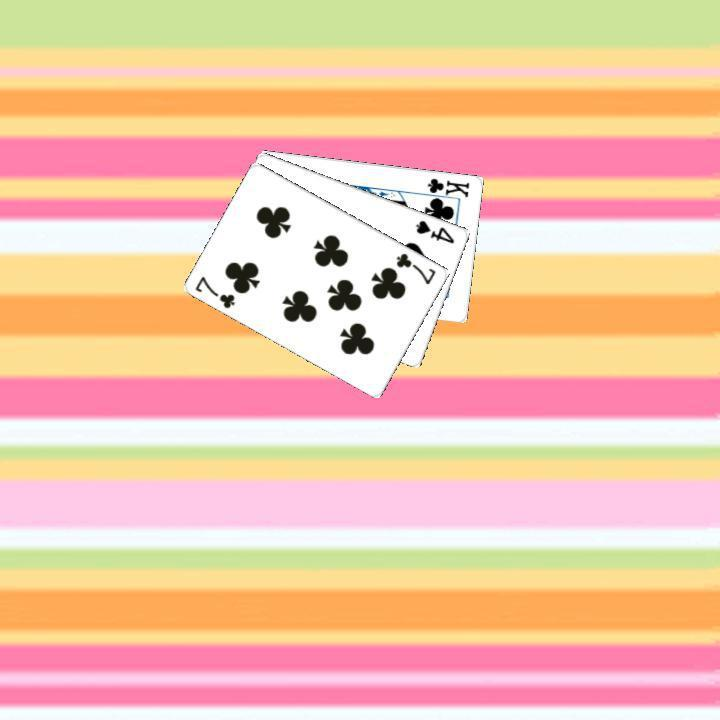4: (412, 216, 457, 245)
7: (191, 272, 238, 310), (392, 248, 438, 286)
K: (418, 173, 471, 202)
